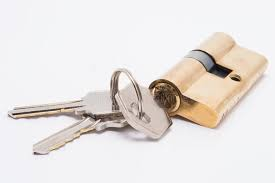key: (25, 88, 139, 158), (112, 78, 177, 143), (7, 88, 132, 121)
